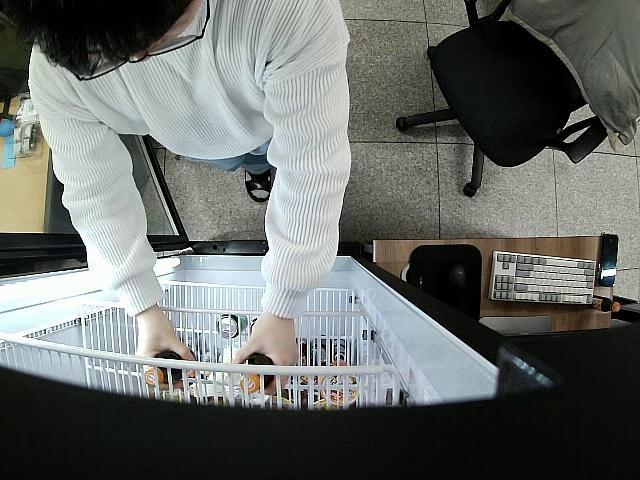17_vita500: (144, 346, 194, 386), (241, 350, 276, 392)
